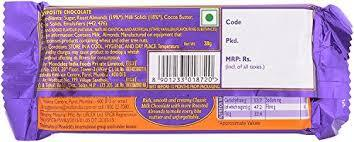VEG: (199, 8, 219, 26)
